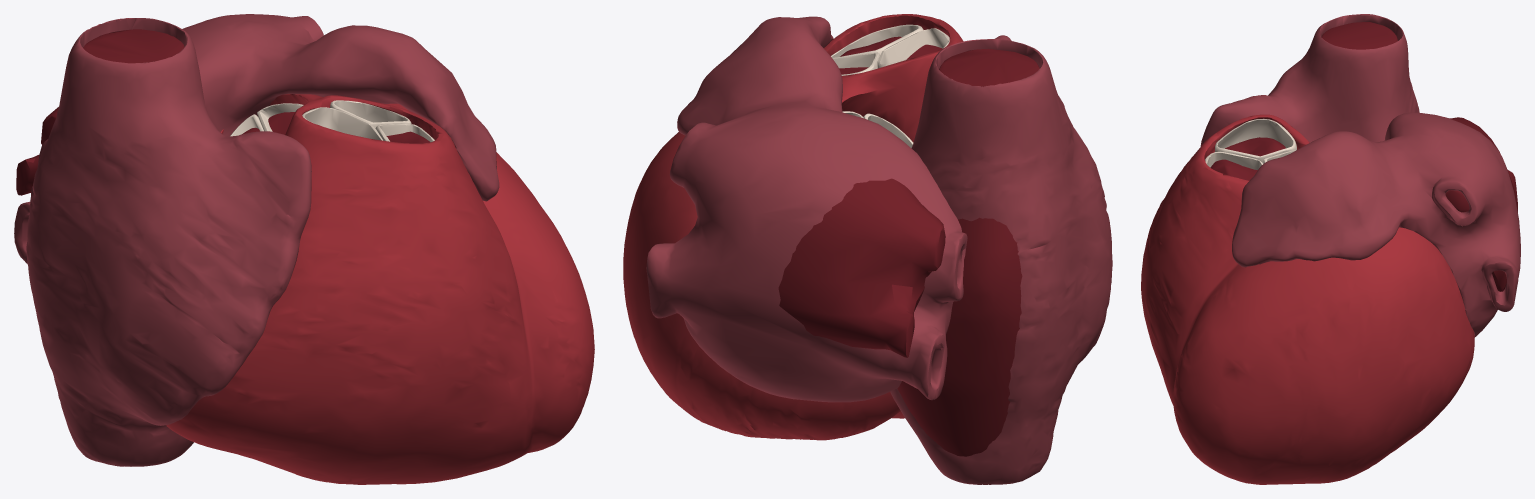
File: coracao.glb
The picture shows the model from 3 angles, left to right: view 1: azimuth 30°, elevation 25°; view 2: azimuth 150°, elevation 25°; view 3: azimuth 270°, elevation 25°; orthographic projection. The views are drawn at different scales.
Visible parts, largest first — view 1: FMA13884, FMA9457, FMA9531, FMA11359, FMA7249, FMA7250, FMA9465; view 2: FMA9531, FMA9457, FMA13884, FMA9465, FMA11359, FMA7249, FMA7247, FMA9291, FMA7250; view 3: FMA13884, FMA9531, FMA9457, FMA7249, FMA11359, FMA9291, FMA9465, FMA7247.
Part boxes in pixels (x1,y1,x2,y2): FMA13884: (166,94,594,484); FMA9457: (26,18,311,466); FMA9531: (14,14,499,263); FMA11359: (83,29,184,63); FMA7249: (302,107,382,140); FMA7250: (330,100,411,128); FMA9465: (16,106,59,195); FMA9531: (646,16,967,402); FMA9457: (890,35,1112,484); FMA13884: (623,14,963,440); FMA9465: (778,178,945,357); FMA11359: (897,48,1039,456); FMA7249: (877,28,949,68); FMA7247: (831,24,923,58); FMA9291: (839,36,942,74); FMA7250: (833,52,879,75); FMA13884: (1141,114,1474,484); FMA9531: (1232,112,1520,337); FMA9457: (1200,14,1419,146); FMA7249: (1215,118,1296,163); FMA11359: (1321,22,1397,49); FMA9291: (1210,137,1285,180); FMA9465: (1445,117,1517,291); FMA7247: (1205,151,1262,169).
Size of the model in its own units: 0.1154 by 0.1053 by 0.1064.
